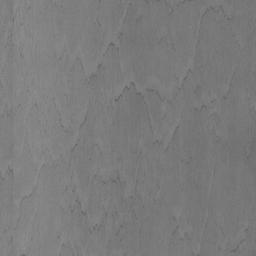Silk spot: (0, 0, 256, 256), (94, 0, 255, 56), (169, 216, 256, 256), (0, 188, 40, 256), (57, 235, 79, 256), (158, 29, 176, 51), (0, 166, 14, 185)
